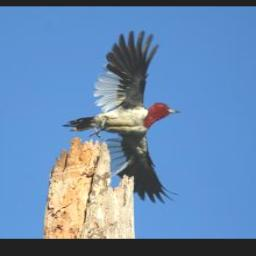Woodpecker: (62, 29, 182, 204)
